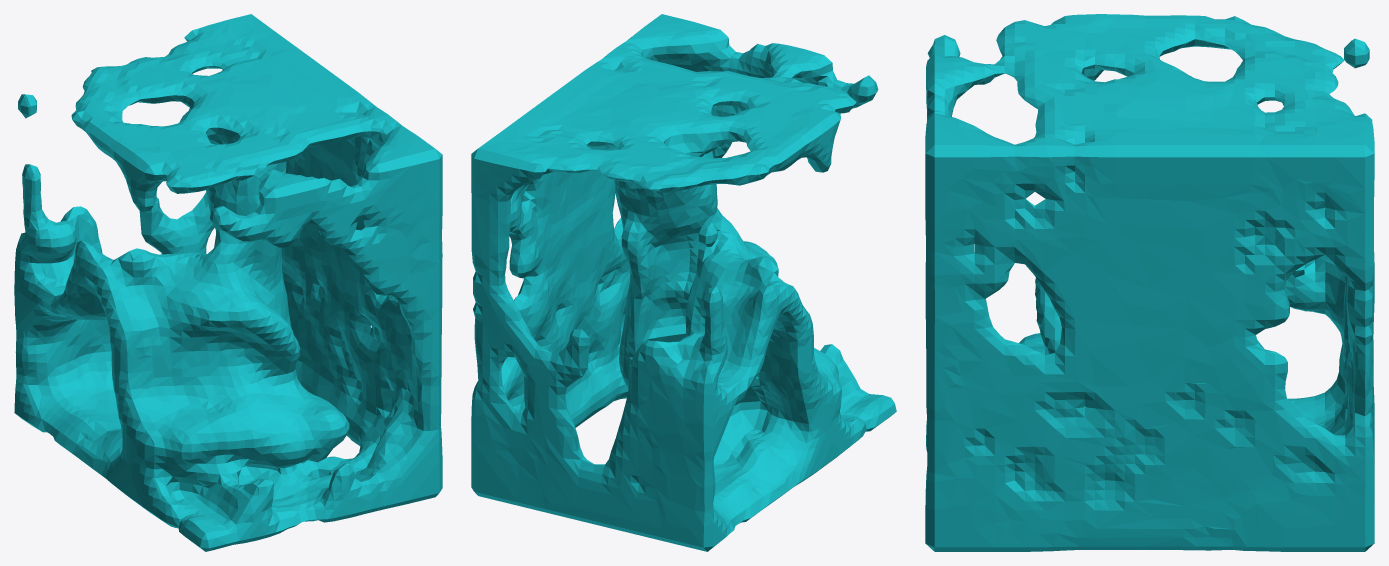
3 renders of one model, left to right at view 1: azimuth 30°, elevation 25°; view 2: azimuth 150°, elevation 25°; view 3: azimuth 270°, elevation 25°, orthographic. The views are drawn at different scales.
Parts seen in each view (by area): view 1: Liquid_Domain; view 2: Liquid_Domain; view 3: Liquid_Domain.
Boxes of the visible parts, <box> form: Liquid_Domain: <box>14,14,442,551</box>; Liquid_Domain: <box>471,14,896,551</box>; Liquid_Domain: <box>925,14,1374,551</box>.
Size of the model in its own units: 79.12 by 108 by 108.
